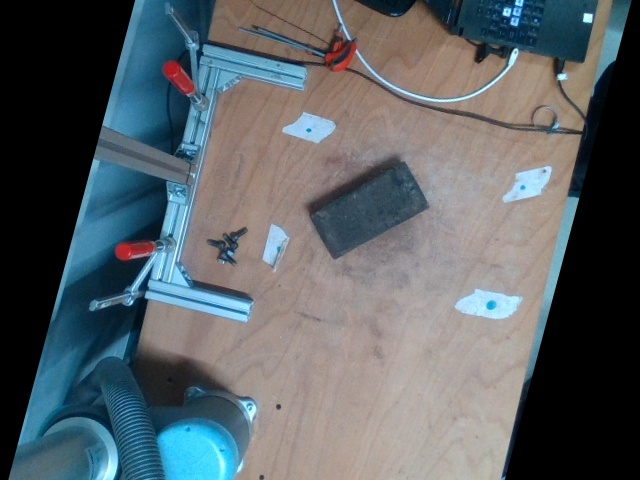brick: (308, 164, 429, 260)
